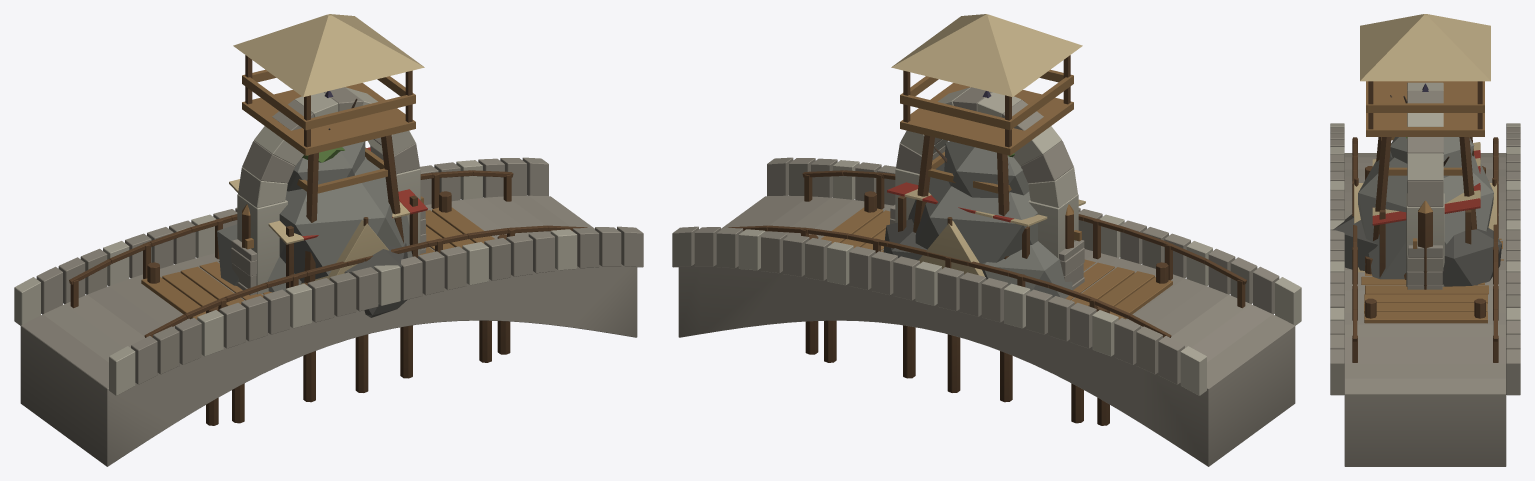
File: v2_map_kit.glb
The picture shows the model from 3 angles, left to right: view 1: azimuth 30°, elevation 25°; view 2: azimuth 150°, elevation 25°; view 3: azimuth 270°, elevation 25°; orthographic projection. The views are drawn at different scales.
Parts seen in each view (by area): view 1: kit_stone_bridge, kit_watchtower, kit_cliff, kit_arch, kit_bridge, kit_dock, kit_market_stall, kit_tent, kit_stone_wall; view 2: kit_stone_bridge, kit_watchtower, kit_cliff, kit_arch, kit_bridge, kit_dock, kit_market_stall, kit_tent, kit_stone_wall; view 3: kit_stone_bridge, kit_watchtower, kit_cliff, kit_dock, kit_arch, kit_bridge, kit_market_stall, kit_stone_wall, kit_palisade, kit_tent.
Part boxes in pixels (left/top/right/bottom): kit_stone_bridge: left=14, top=157, right=643, bottom=466; kit_watchtower: left=233, top=14, right=424, bottom=282; kit_cliff: left=217, top=141, right=412, bottom=317; kit_arch: left=237, top=87, right=420, bottom=294; kit_bridge: left=69, top=170, right=587, bottom=423; kit_dock: left=141, top=191, right=510, bottom=425; kit_market_stall: left=229, top=147, right=427, bottom=288; kit_tent: left=301, top=217, right=388, bottom=284; kit_stone_wall: left=231, top=211, right=426, bottom=295; kit_stone_bridge: left=672, top=157, right=1301, bottom=466; kit_watchtower: left=891, top=14, right=1082, bottom=259; kit_cliff: left=883, top=141, right=1072, bottom=298; kit_arch: left=895, top=87, right=1078, bottom=258; kit_bridge: left=728, top=170, right=1246, bottom=423; kit_dock: left=805, top=191, right=1172, bottom=425; kit_market_stall: left=887, top=182, right=1085, bottom=258; kit_tent: left=918, top=217, right=984, bottom=276; kit_stone_wall: left=890, top=205, right=1084, bottom=290; kit_stone_bridge: left=1330, top=123, right=1520, bottom=466; kit_watchtower: left=1360, top=14, right=1490, bottom=240; kit_cliff: left=1332, top=137, right=1501, bottom=286; kit_dock: left=1361, top=166, right=1488, bottom=323; kit_arch: left=1406, top=82, right=1444, bottom=286; kit_bridge: left=1352, top=137, right=1503, bottom=362; kit_market_stall: left=1372, top=142, right=1480, bottom=277; kit_stone_wall: left=1407, top=245, right=1443, bottom=289; kit_palisade: left=1413, top=200, right=1432, bottom=289; kit_tent: left=1354, top=177, right=1496, bottom=272.
Bounding box in the file's own units: 12 × 7.7 × 4.
